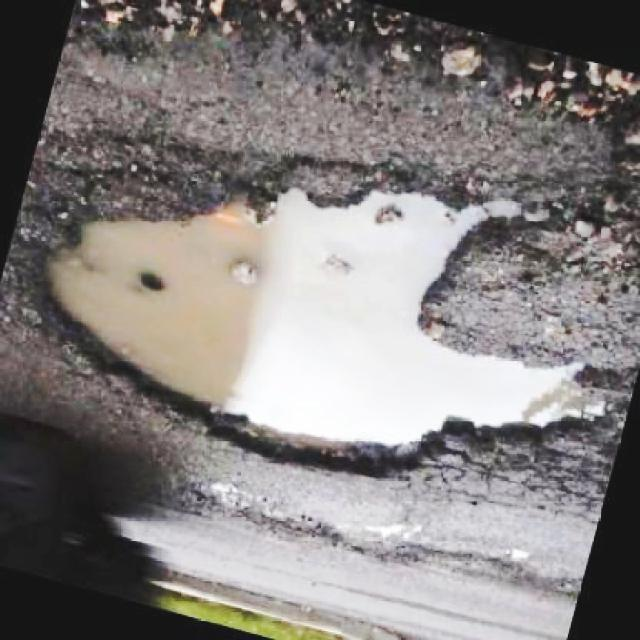pothole: (32, 163, 637, 483)
